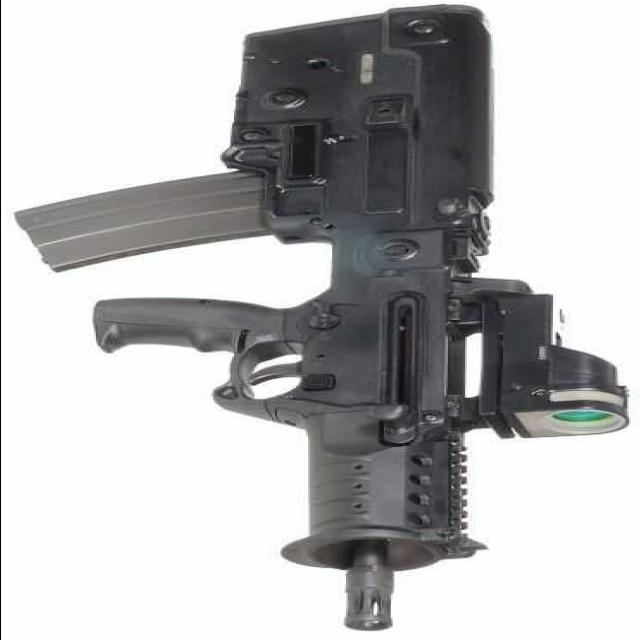heavyweapon: (1, 5, 631, 638)
